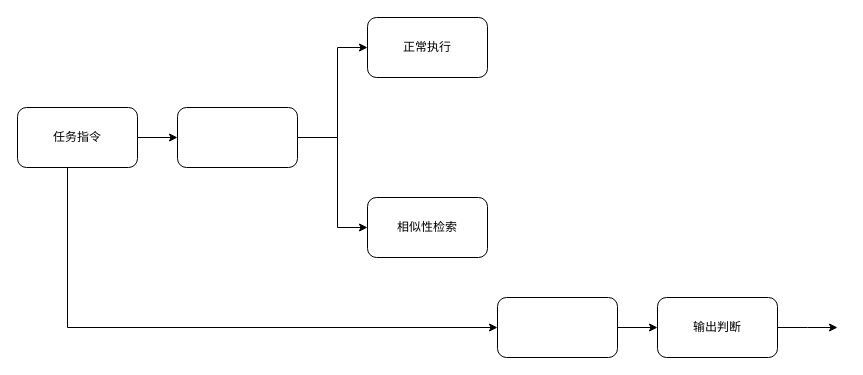
The diagram is 863 pixels wide and 375 high, and some of its shapes have lost their labels. Here are the shapes that lost their labels. From the top down, the centre of each, then its label:
At point (237, 137): "长期记忆检索、YN".
At point (557, 327): "对比生成".
